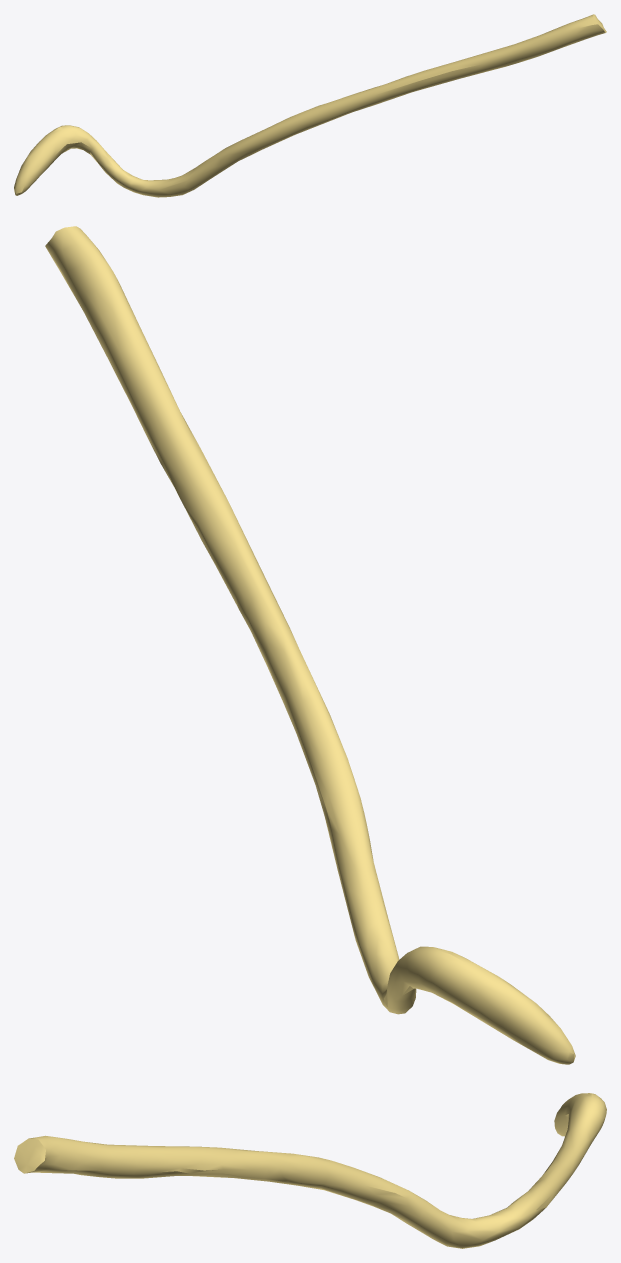
The model's file is fma53412_mm2608.glb.
3 renders of one model, top to bottom at view 1: azimuth 30°, elevation 25°; view 2: azimuth 150°, elevation 25°; view 3: azimuth 270°, elevation 25°, orthographic. The views are drawn at different scales.
Visible parts, largest first — view 1: FMA53412_MM2608; view 2: FMA53412_MM2608; view 3: FMA53412_MM2608.
Part boxes in pixels (x1=…): FMA53412_MM2608: x1=14, y1=14, x2=606, y2=197; FMA53412_MM2608: x1=45, y1=226, x2=575, y2=1064; FMA53412_MM2608: x1=14, y1=1093, x2=606, y2=1248.
Bounding box in the file's own units: 0.0225 × 0.0106 × 0.0168.
